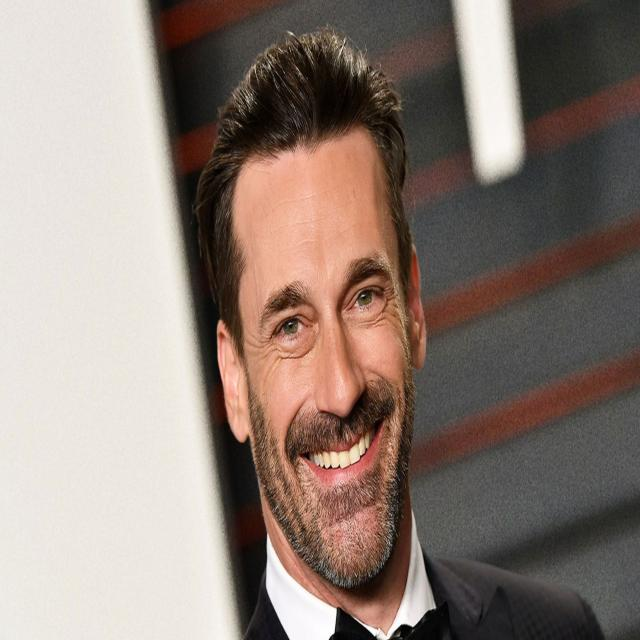beard: (248, 369, 415, 590)
hair: (195, 26, 414, 345)
